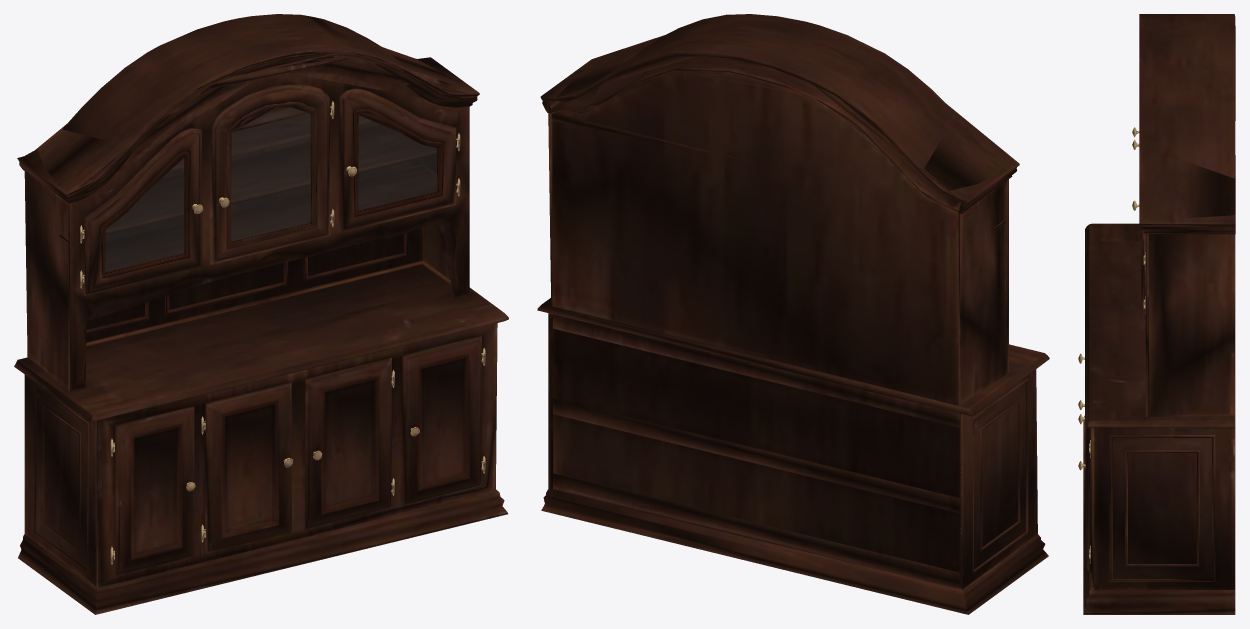
The model's file is vintage_cabinet_01.glb.
3 views of the same model, side by side, from view 1: azimuth 30°, elevation 25°; view 2: azimuth 150°, elevation 25°; view 3: azimuth 270°, elevation 25° (orthographic). The views are drawn at different scales.
Visible parts, largest first — view 1: vintage_cabinet_01_body, vintage_cabinet_01_body_lo, vintage_cabinet_01_door_01, vintage_cabinet_01_door_01_lo; view 2: vintage_cabinet_01_body, vintage_cabinet_01_body_lo; view 3: vintage_cabinet_01_body, vintage_cabinet_01_body_lo.
Boxes of the visible parts, x1,y1,x2,y2 form: vintage_cabinet_01_body: (14, 14, 508, 614); vintage_cabinet_01_body_lo: (14, 47, 495, 586); vintage_cabinet_01_door_01: (105, 108, 436, 271); vintage_cabinet_01_door_01_lo: (106, 108, 436, 271); vintage_cabinet_01_body: (537, 14, 1049, 614); vintage_cabinet_01_body_lo: (537, 35, 1036, 588); vintage_cabinet_01_body: (1078, 14, 1235, 614); vintage_cabinet_01_body_lo: (1090, 149, 1235, 570).
Size of the model in its own units: 2.02 by 2.23 by 0.6697.
3 materials, 2 textured.
